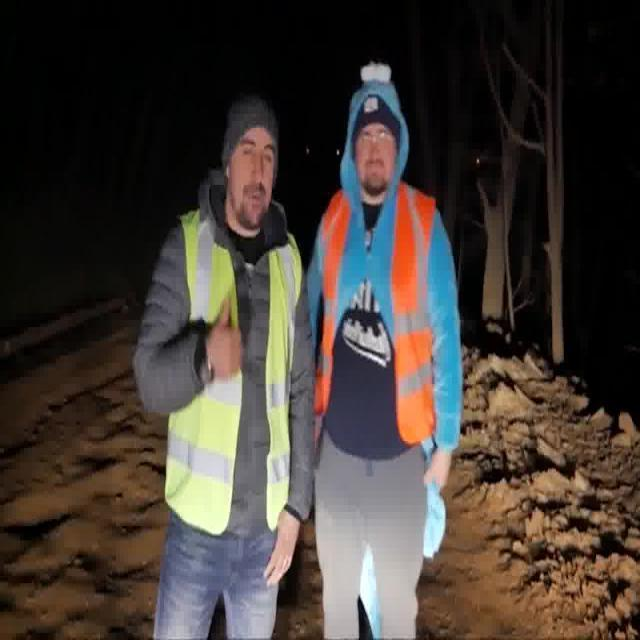safety_vest: (163, 210, 303, 538), (321, 190, 436, 444)
